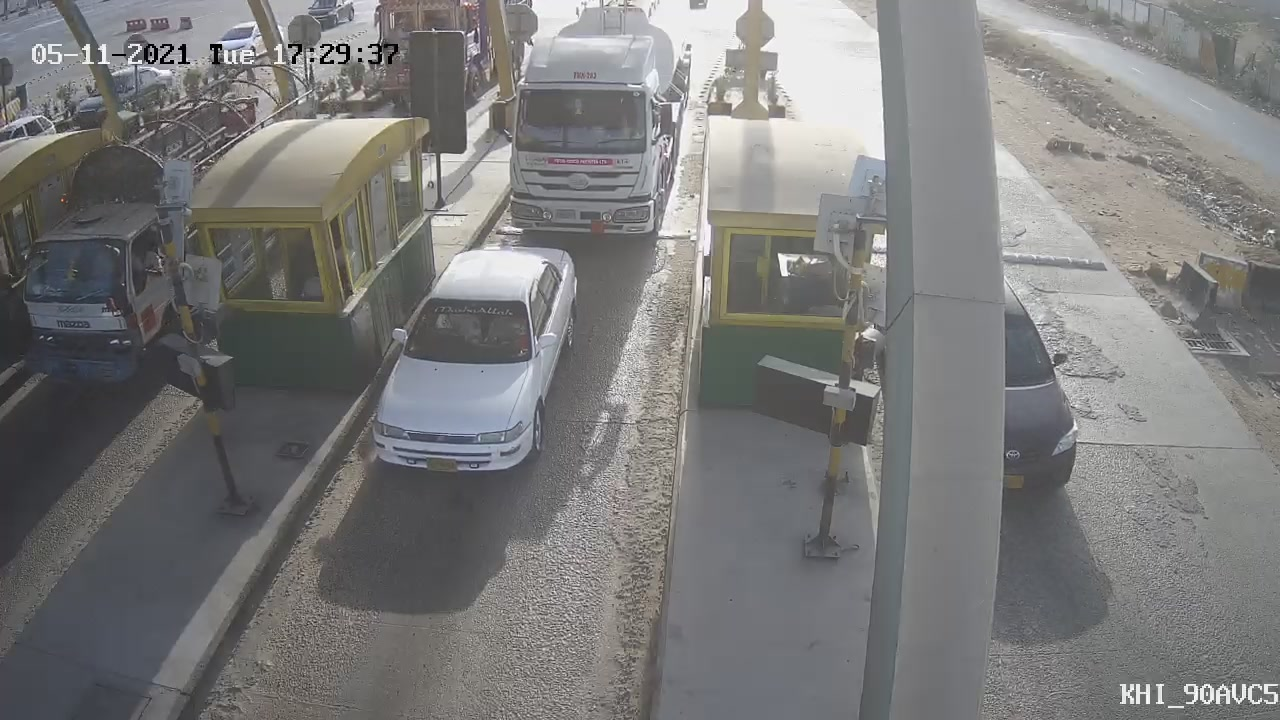F1: (346, 227, 598, 492)
